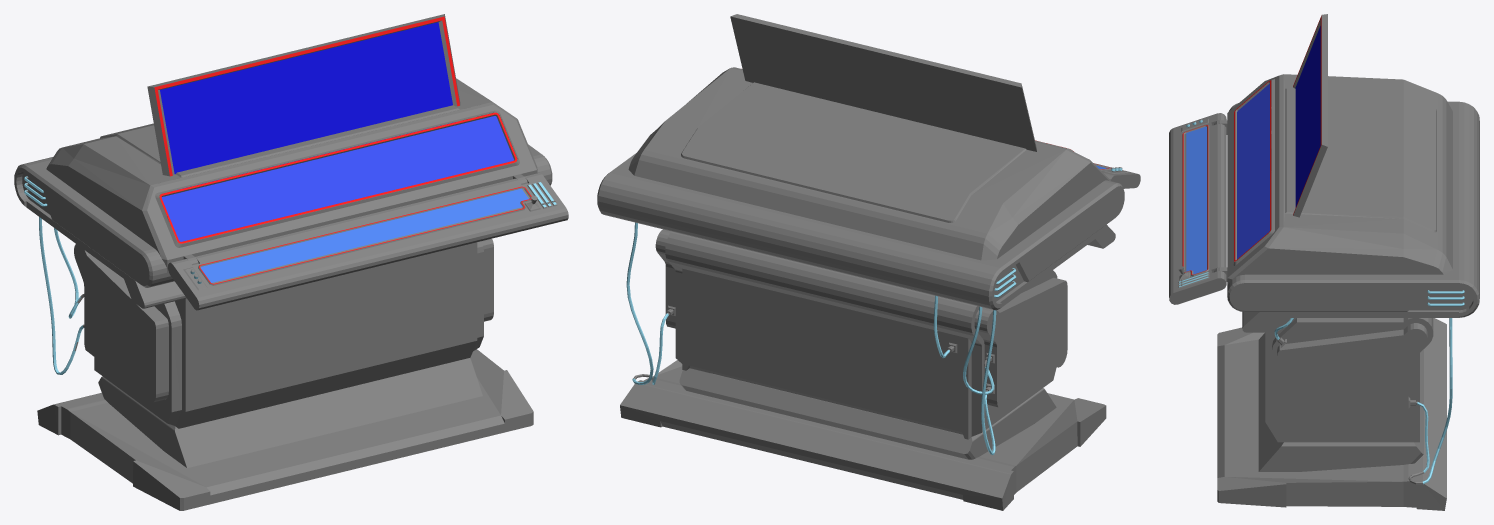
File: Control_Panel_Modif.FBX
The picture shows the model from 3 angles, left to right: view 1: azimuth 30°, elevation 25°; view 2: azimuth 150°, elevation 25°; view 3: azimuth 270°, elevation 25°; orthographic projection. The views are drawn at different scales.
Parts seen in each view (by area): view 1: Control_Panel_01, Control_Panel_Outline; view 2: Control_Panel_01; view 3: Control_Panel_01, Control_Panel_Outline.
Part boxes in pixels (x1,y1,x2,y2): Control_Panel_01: [14, 14, 568, 510]; Control_Panel_Outline: [154, 16, 531, 284]; Control_Panel_01: [597, 14, 1140, 510]; Control_Panel_01: [1169, 14, 1479, 510]; Control_Panel_Outline: [1182, 15, 1321, 274].
Bounding box in the file's own units: 208 × 185 × 152.
